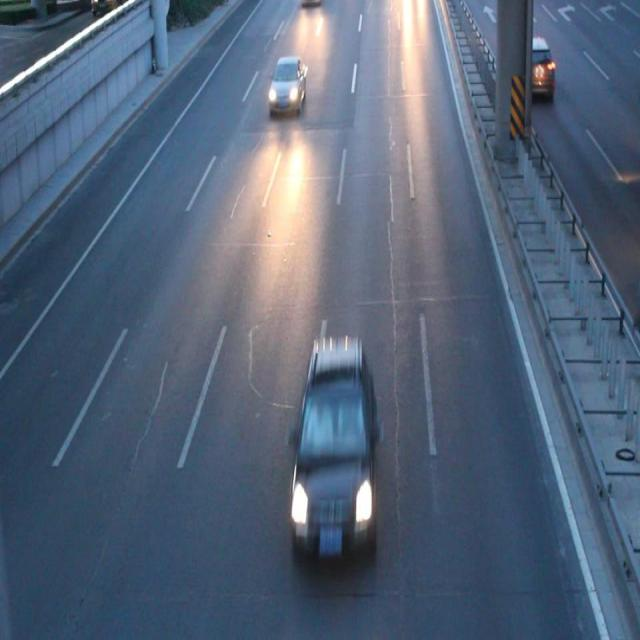car: (291, 338, 376, 568), (514, 34, 553, 96), (268, 54, 306, 112)
